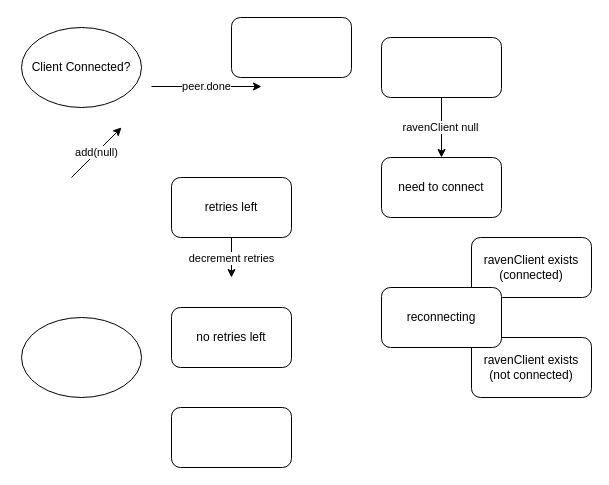
Image size: 609x485. Some labels were removed from this diagram. The shapes that lost their labels are listed below. From the top down, each one's centre as x and y in pixels, then its label:
At pixel 291 47: "no timer".
At pixel 441 67: "initial".
At pixel 81 357: "mostRecentRavenClient".
